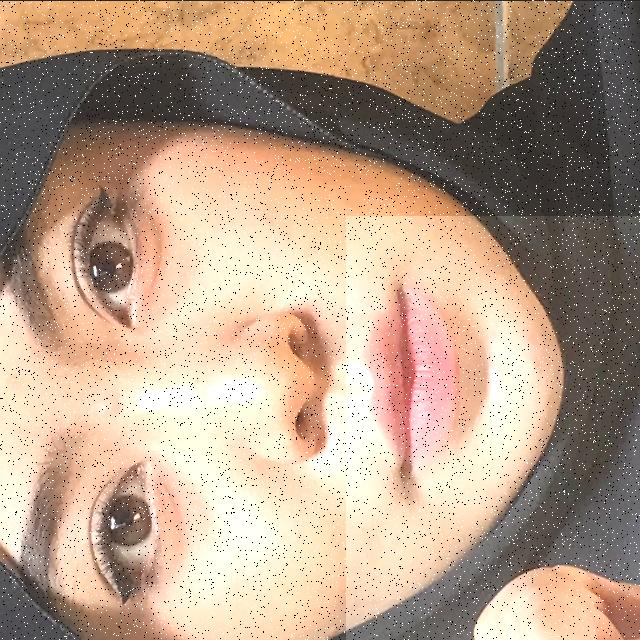kamu: (346, 215, 640, 640)
